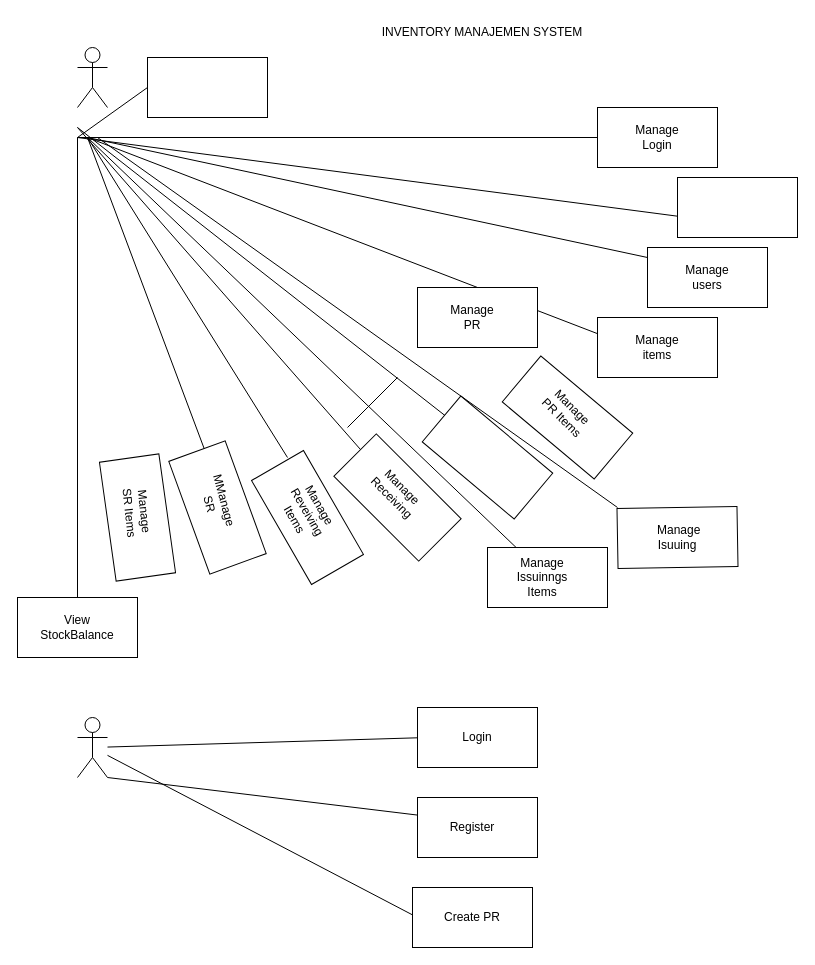
Some shapes in this 815 by 965 pixel diagram are drawn without their labels. Here are the shapes that lost their labels. From the top down, the centre of each, then its label:
At [92,77]: "ADMIN".
At [207,87]: "View Dashbiard".
At [737,207]: "Manage Register".
At [487,457]: "Manage Market List".
At [92,747]: "USERS".
